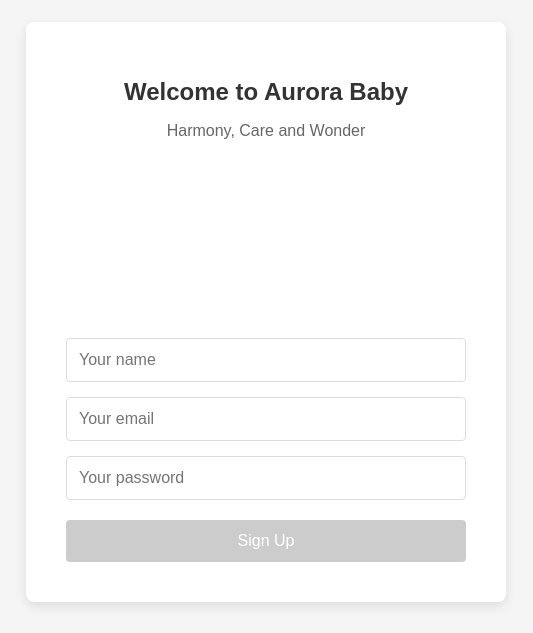
it: Signup Component Tests › displays error message on signup failure
Type "Jane" into the field with placeholder "Your name" at (266, 360), box [66, 338, 466, 382]
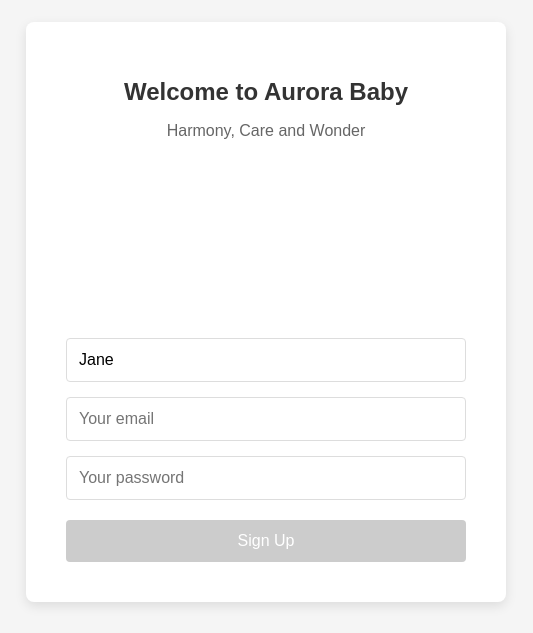
Type "jane@example.com" into the field with placeholder "Your email" at (266, 419), box [66, 397, 466, 441]
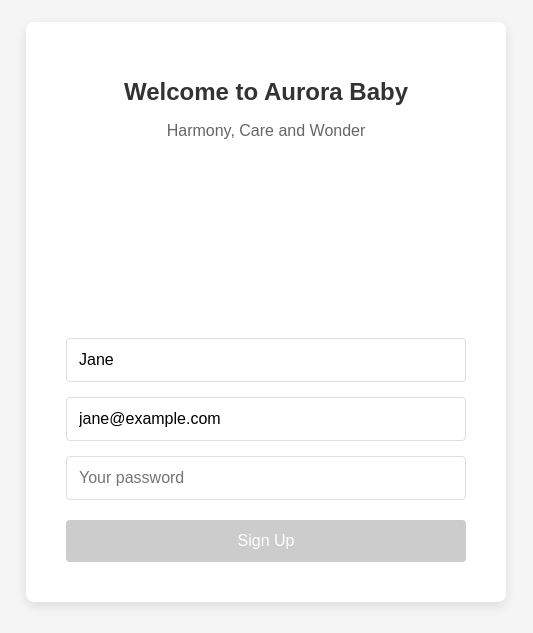
Type "password123" into the password field with placeholder "Your password" at (266, 478), box [66, 456, 466, 500]
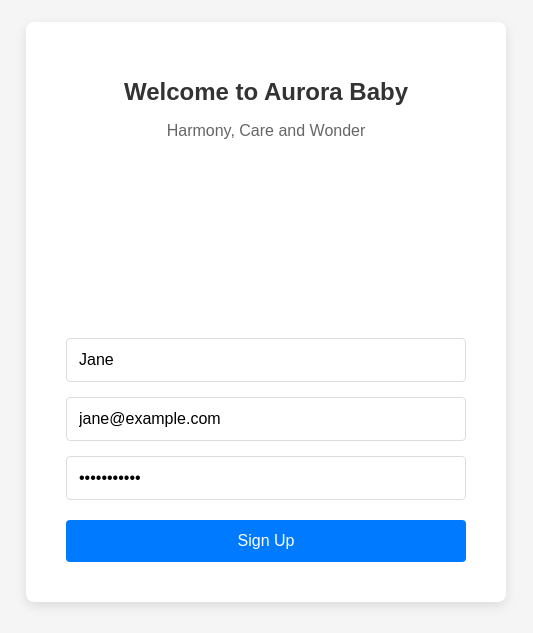
Click the button "Sign Up" at (266, 541), box [66, 520, 466, 562]
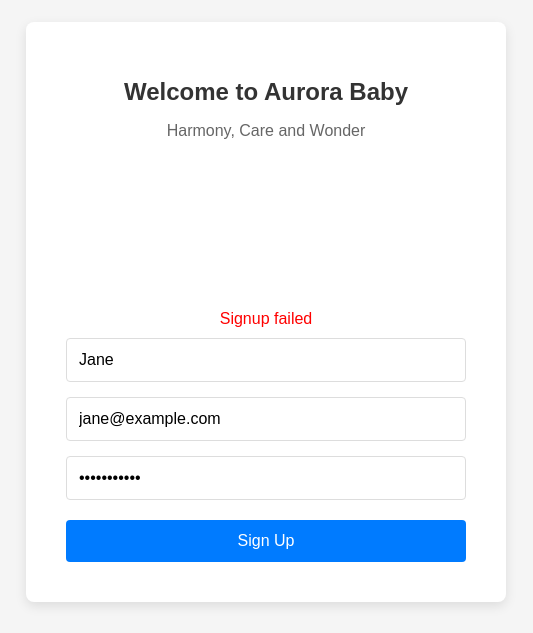
Expected: the text "Signup failed" is shown, [220, 310, 312, 327]
